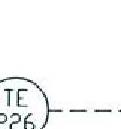instrumenttag: (1, 75, 49, 129)
